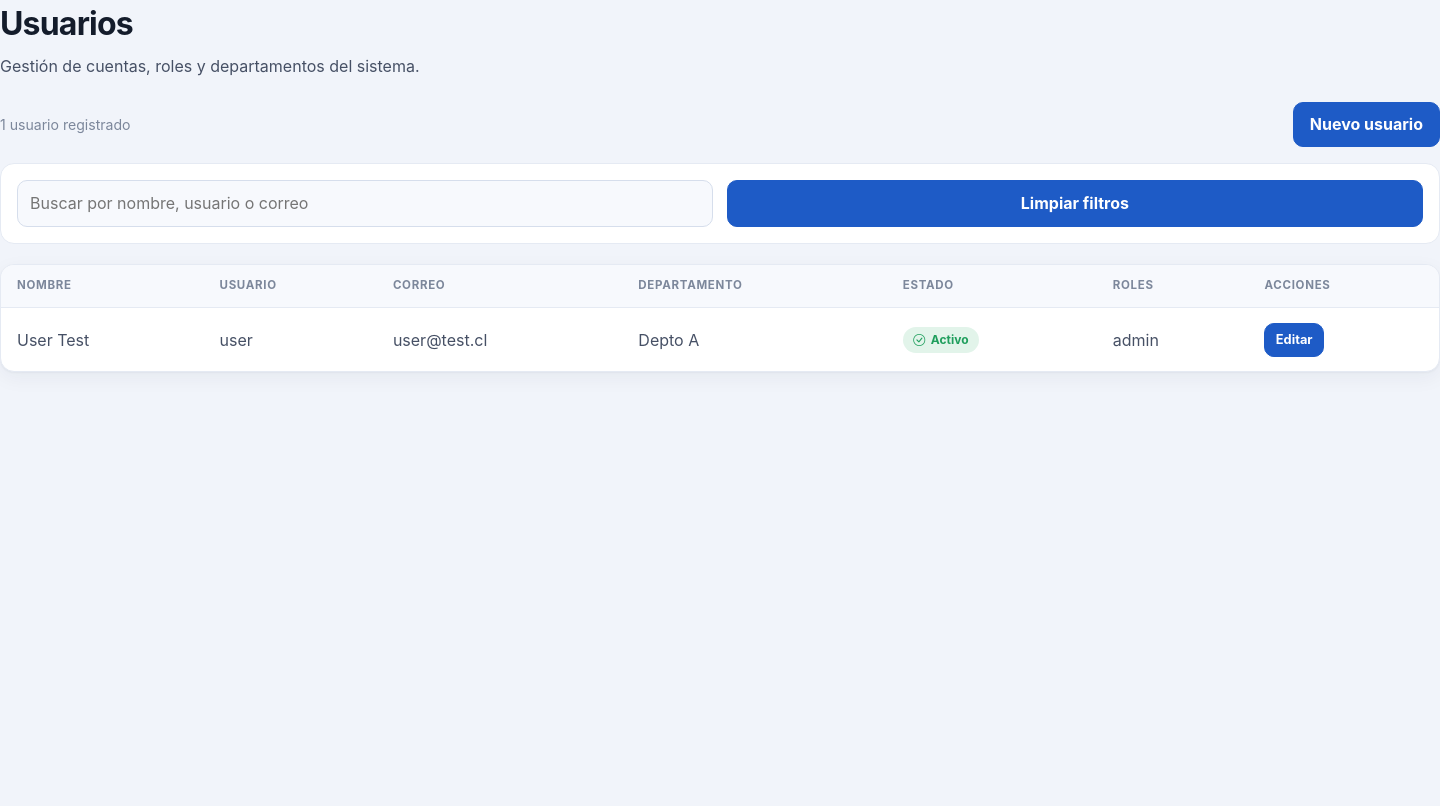
Test case: UsersPage › edita usuario existente
Step 1. Click the button "Editar" → point(1294, 340), box x1=1264 y1=323 x2=1324 y2=357
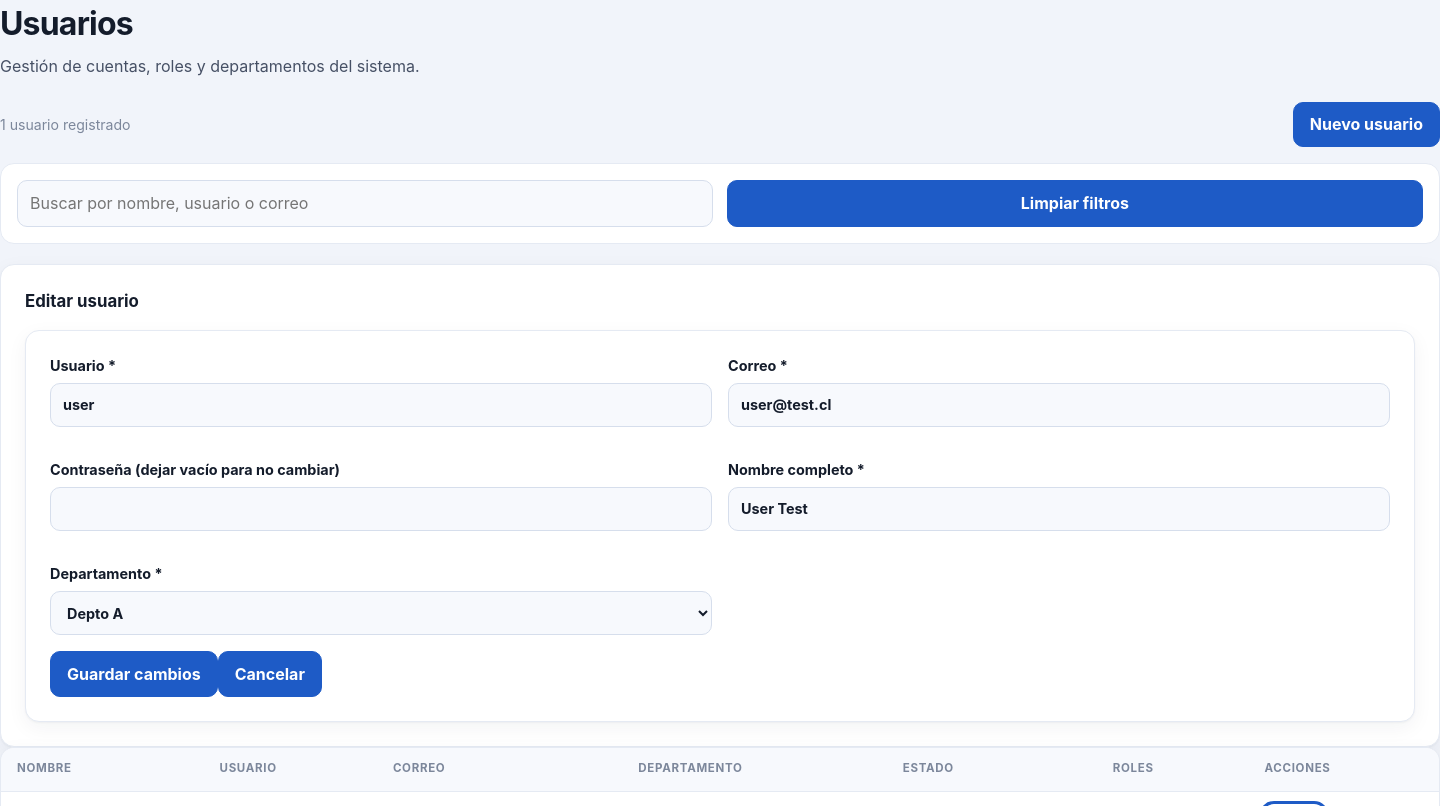
Expected: the heading "Editar usuario" is shown, x1=25 y1=291 x2=139 y2=311
